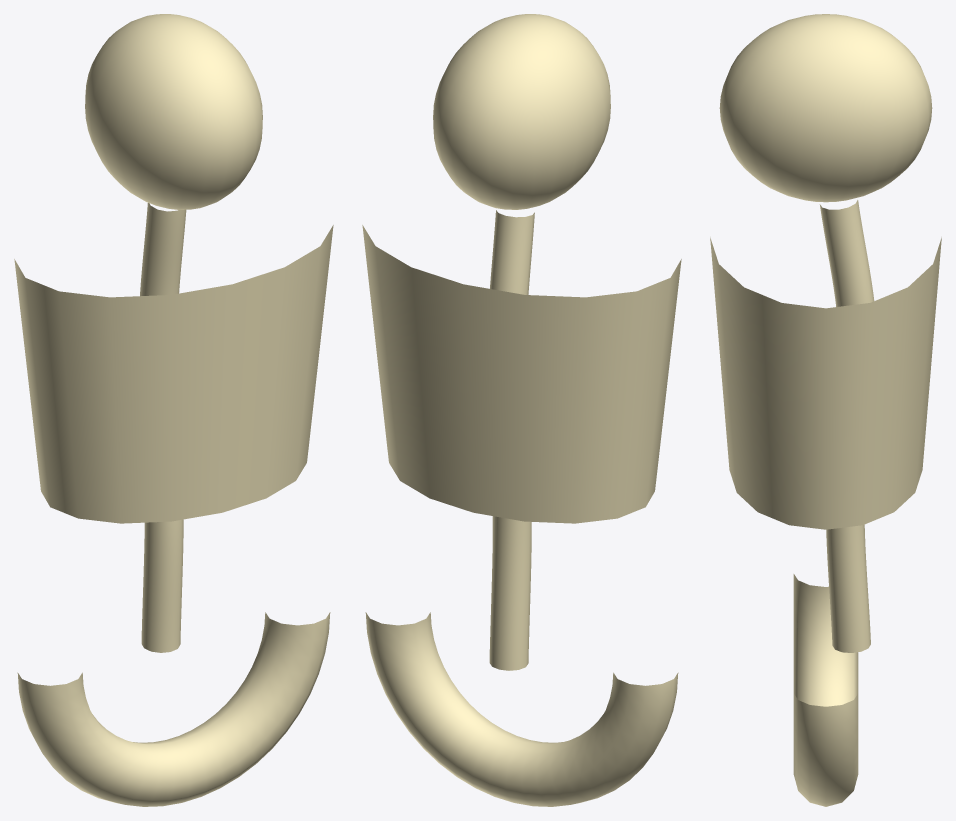
File: human_skeleton.glb
3 renders of one model, left to right at view 1: azimuth 30°, elevation 25°; view 2: azimuth 150°, elevation 25°; view 3: azimuth 270°, elevation 25°, orthographic.
Visible parts, largest first — view 1: Ribcage, Skull, Pelvis, Spine; view 2: Ribcage, Skull, Pelvis, Spine; view 3: Ribcage, Skull, Pelvis, Spine.
Boxes of the visible parts, box(x1,y1,x2,y2) form: Ribcage: box(14, 225, 333, 523); Skull: box(85, 14, 262, 209); Pelvis: box(17, 612, 330, 806); Spine: box(140, 203, 186, 652); Ribcage: box(362, 225, 681, 523); Skull: box(433, 14, 610, 209); Pelvis: box(365, 612, 678, 806); Spine: box(489, 210, 534, 670); Ribcage: box(710, 237, 941, 529); Skull: box(719, 14, 932, 202); Pelvis: box(793, 574, 858, 806); Spine: box(819, 200, 874, 652).
Size of the model in its own units: 2.7 by 6.6 by 1.8.
